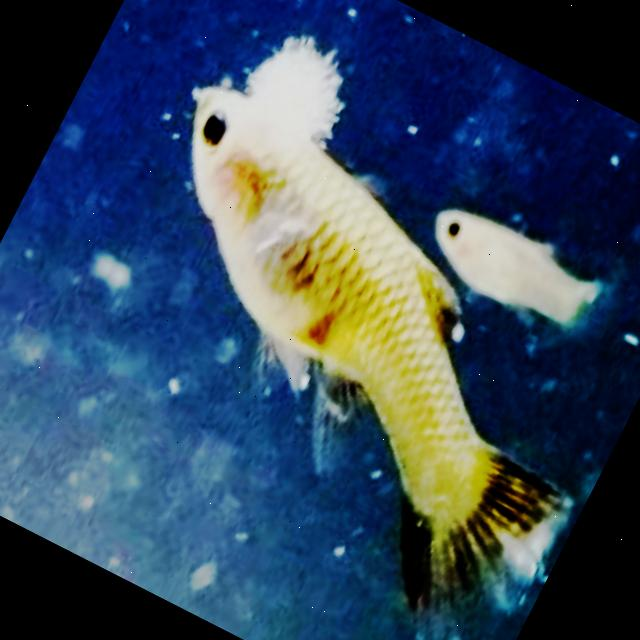Fungal Disease -Saprolegniasis-: (197, 39, 568, 610), (198, 39, 567, 609)
